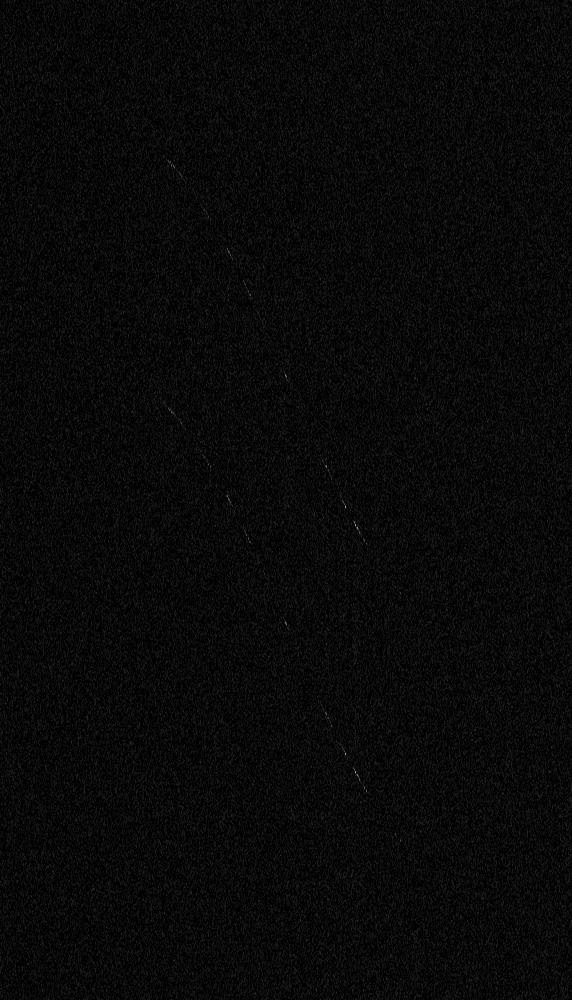signal: (0, 0, 571, 999)
